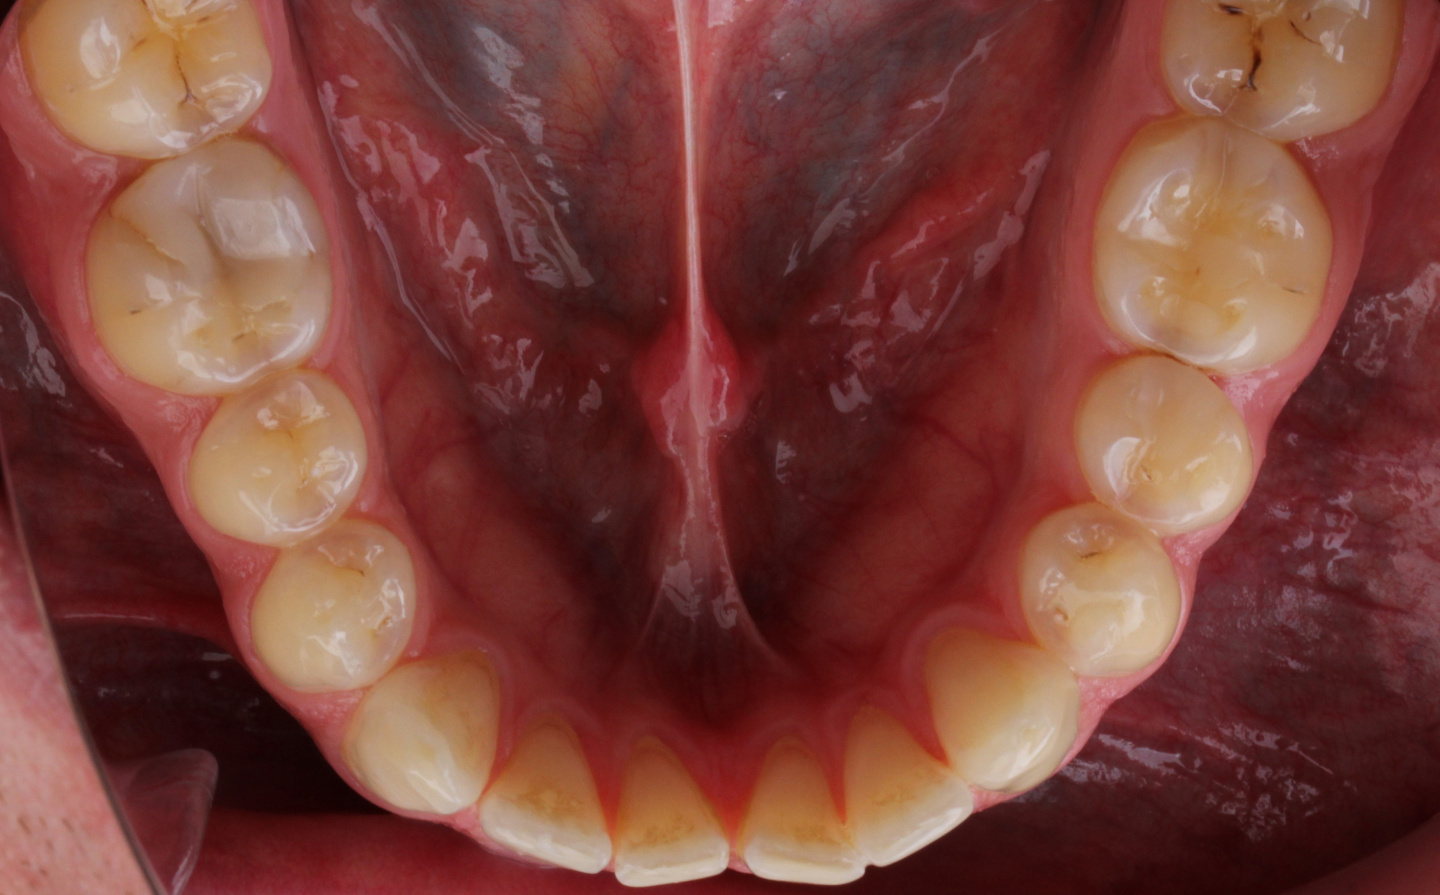LL1BC_healthy: (1010, 507, 1176, 679)
LL1M_healthy: (1083, 117, 1319, 371)
LL2BC_healthy: (1060, 349, 1254, 530)
LL2M_decay: (1140, 1, 1401, 135)
LLCI_healthy: (727, 719, 865, 895)
LLC_healthy: (914, 621, 1085, 799)
LLLI_healthy: (841, 700, 975, 870)
LR1BC_healthy: (252, 522, 423, 695)
LR1M_decay: (85, 143, 338, 395)
LR2BC_healthy: (190, 365, 369, 539)
LR2M_decay: (12, 1, 294, 158)
LRCI_healthy: (611, 734, 736, 895)
LRC_healthy: (355, 651, 509, 817)
LRLI_healthy: (479, 729, 613, 876)
